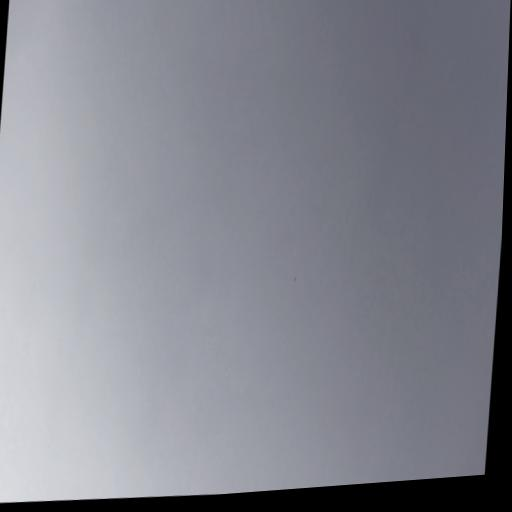drones: (293, 276, 297, 282)
